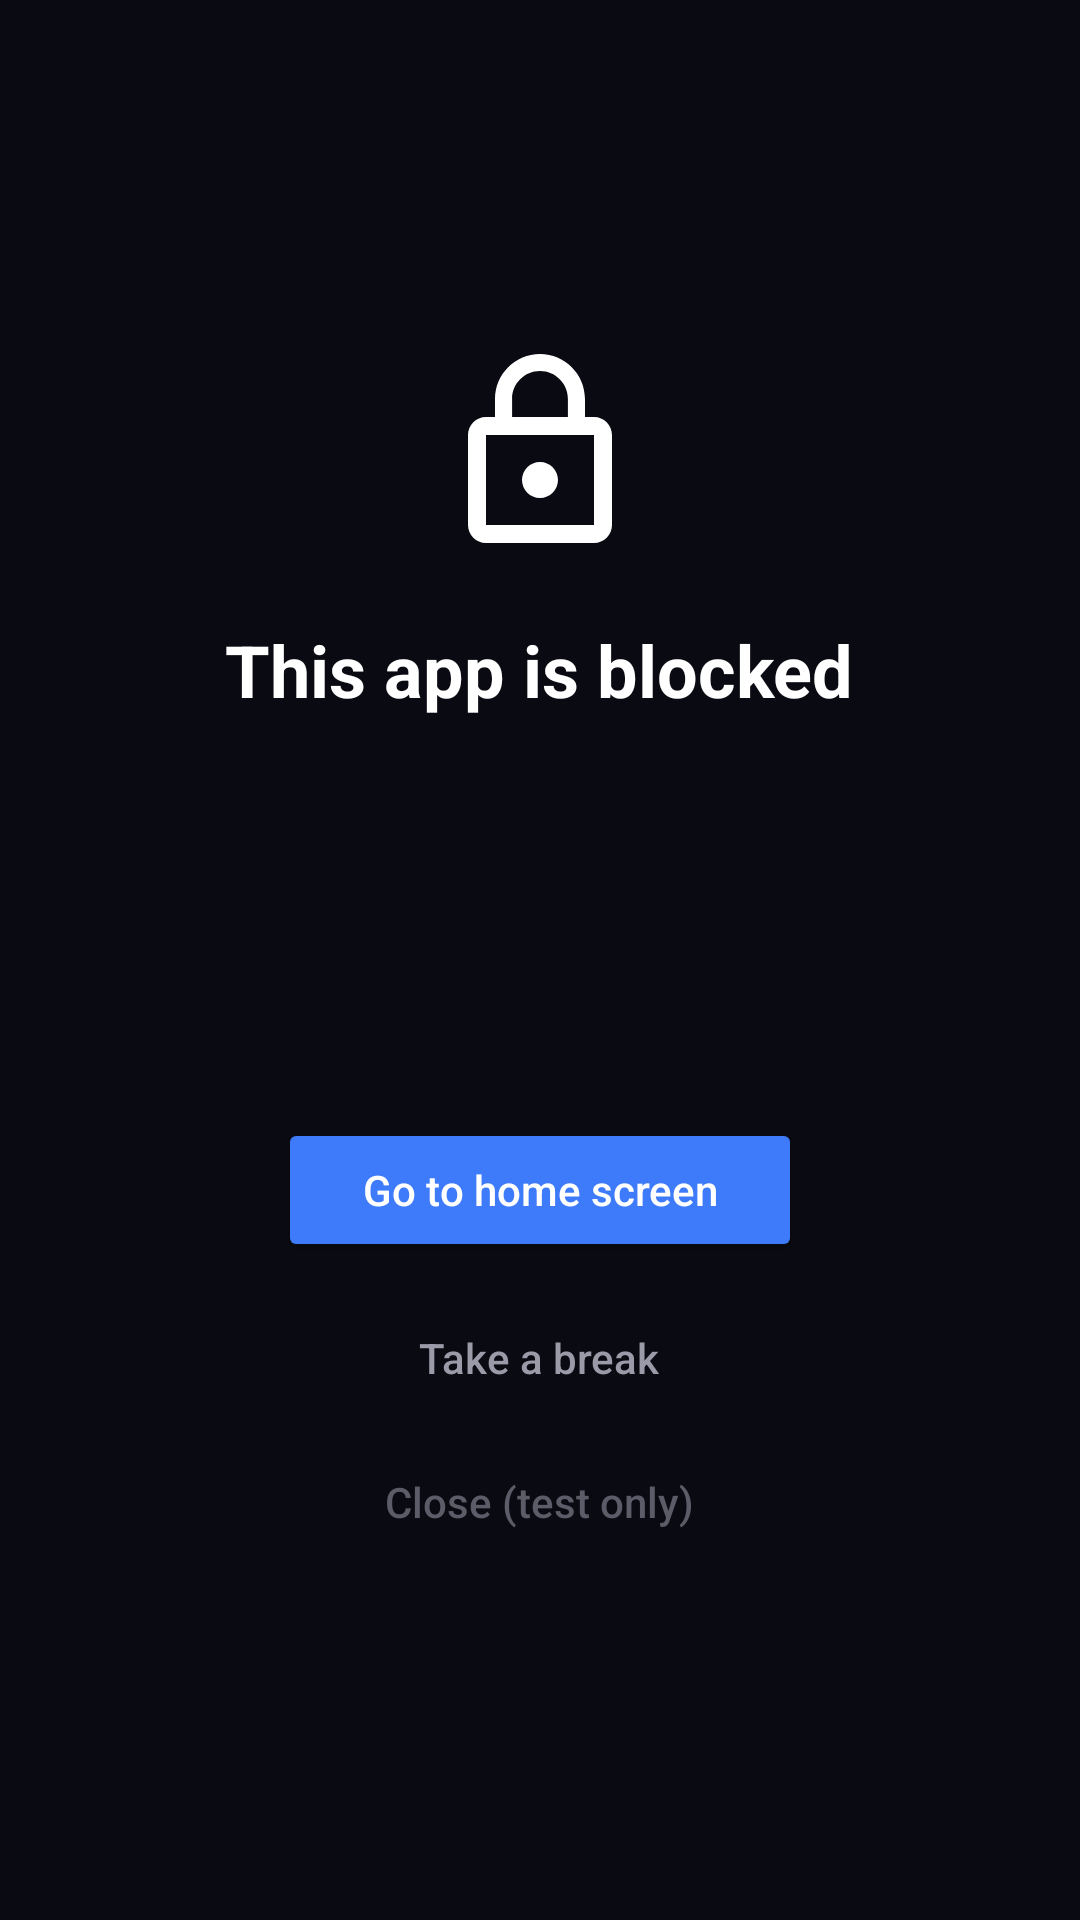

Locate icon controls on the screen. Image size 1080w x 1920h, boxes as (x1, y1, x2, y2).
lock closed: (468, 354, 612, 543)
